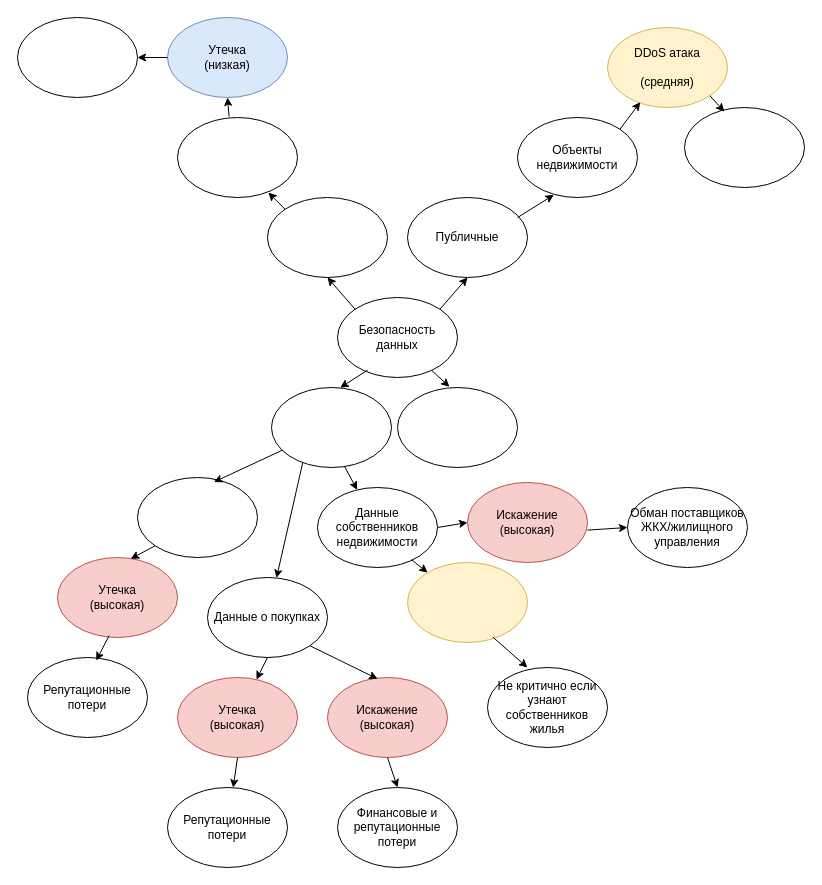
Image size: 822x885. Some labels were removed from this diagram. Here are the shapes that lost their labels. From the top down, the box of each, then its label:
(16, 16, 138, 98): сложно использовать против системы
(176, 116, 298, 198): Описание команд (функциональные и операционные)
(684, 106, 804, 188): Можно восстановиться
(266, 196, 388, 278): Внутренние
(270, 386, 392, 468): Конфиденциальные
(396, 386, 518, 468): Секретные
(136, 476, 258, 558): Личные данные клиента
(406, 562, 528, 642): Утечка (средняя)
